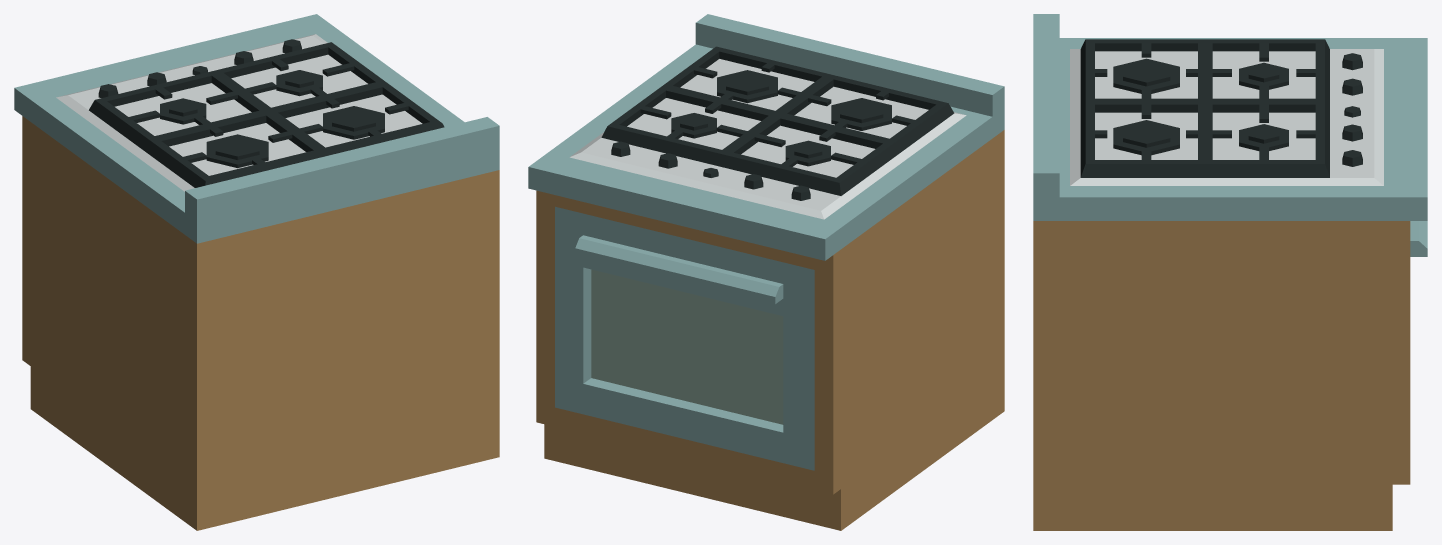
The model's file is kitchenStove.glb.
3 views of the same model, side by side, from view 1: azimuth 30°, elevation 25°; view 2: azimuth 150°, elevation 25°; view 3: azimuth 270°, elevation 25° (orthographic). The views are drawn at different scales.
Parts seen in each view (by area): view 1: kitchenStove; view 2: kitchenStove; view 3: kitchenStove.
Part boxes in pixels (x1,y1,x2,y2): kitchenStove: (14,14,499,530); kitchenStove: (528,14,1004,530); kitchenStove: (1033,14,1427,530).
Size of the model in its own units: 0.86 by 0.9 by 0.9.
